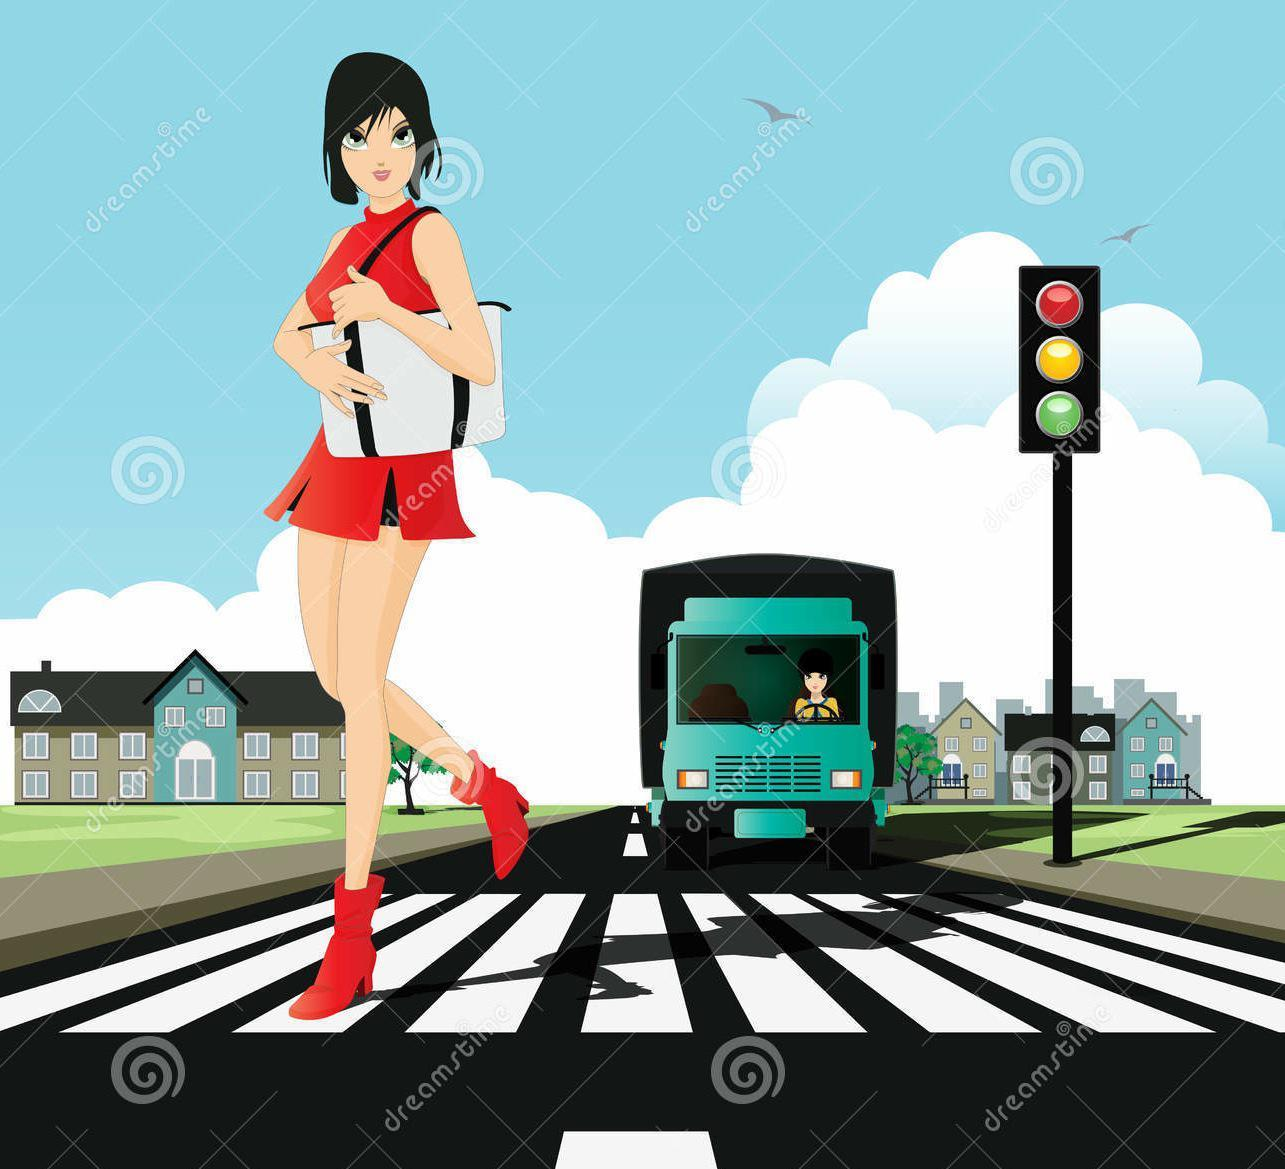car: (626, 551, 911, 873)
person: (250, 41, 550, 1031), (781, 651, 848, 726)
